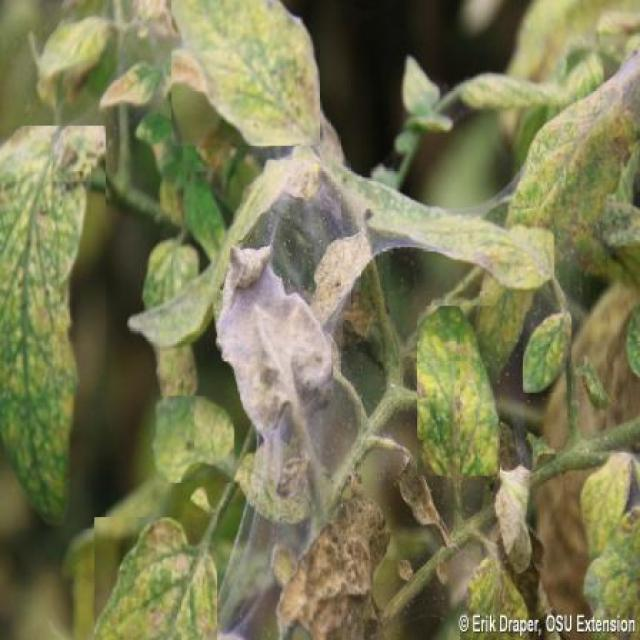Spider Mites: (1, 126, 106, 530), (172, 0, 321, 146), (366, 208, 554, 292), (94, 518, 217, 640), (418, 306, 500, 476), (152, 396, 235, 483), (578, 454, 631, 559), (523, 311, 571, 393)
